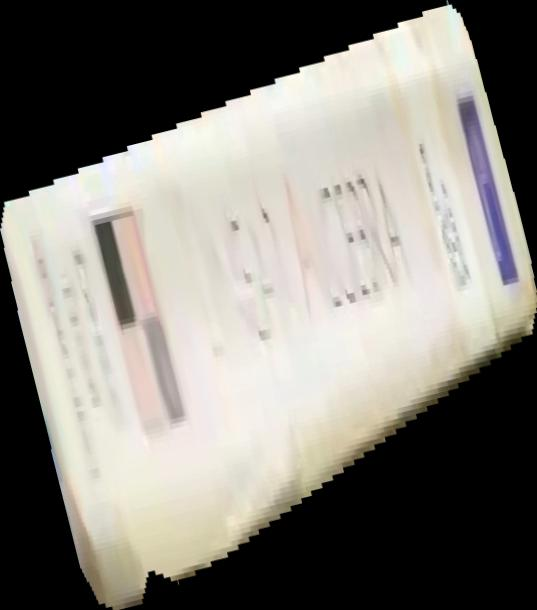flat: (1, 1, 537, 610)
